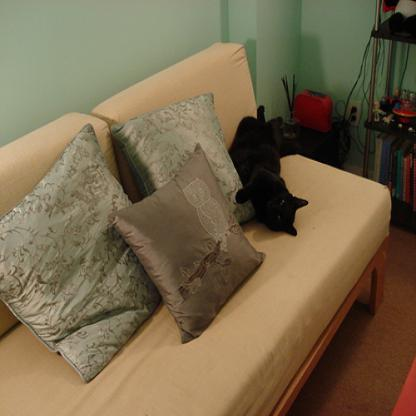cat: (228, 102, 308, 239)
sofa: (0, 41, 392, 415)
